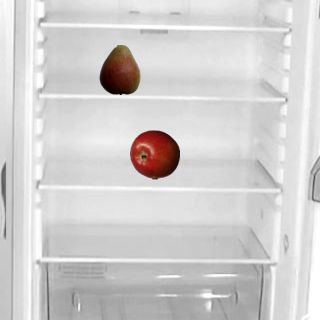Apple Braeburn: (129, 129, 179, 179)
Pear Forelle: (94, 44, 144, 94)
